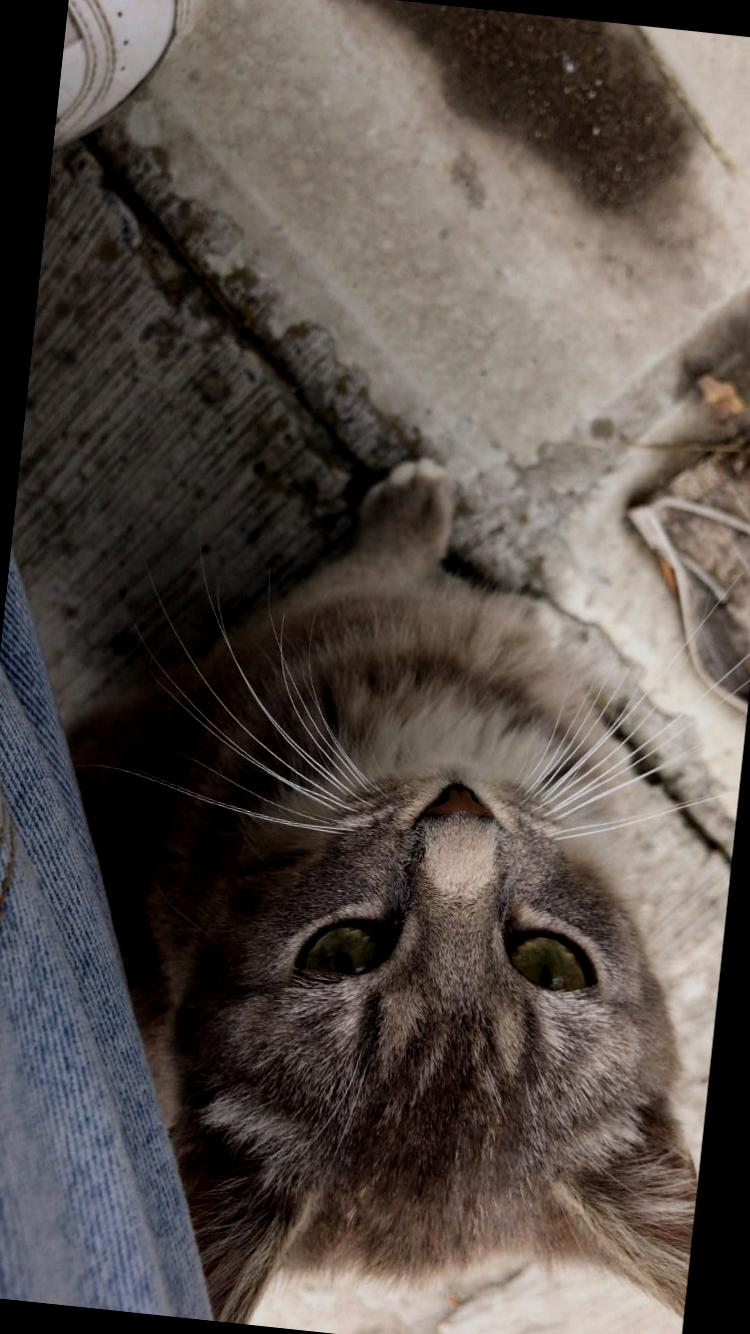macka: (11, 421, 750, 1334)
